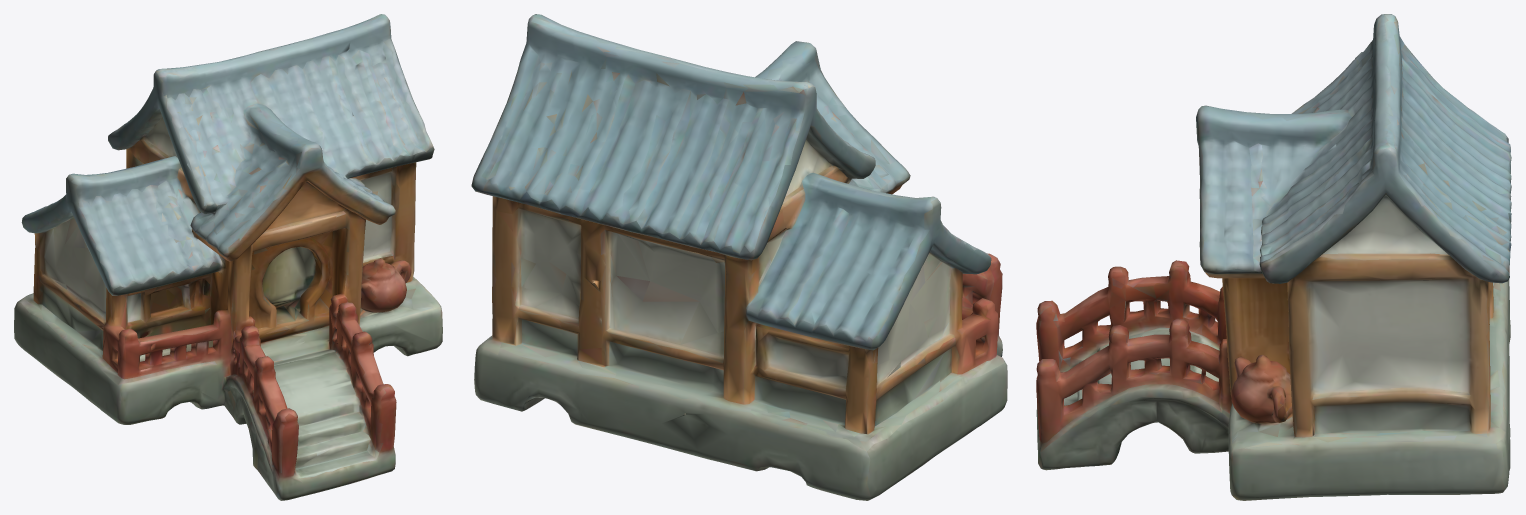
File: sc-home-bridge.glb
The picture shows the model from 3 angles, left to right: view 1: azimuth 30°, elevation 25°; view 2: azimuth 150°, elevation 25°; view 3: azimuth 270°, elevation 25°; orthographic projection. The views are drawn at different scales.
Visible parts, largest first — view 1: geometry_0; view 2: geometry_0; view 3: geometry_0.
Boxes of the visible parts, x1,y1,x2,y2 form: geometry_0: (14, 14, 442, 500); geometry_0: (471, 14, 1007, 500); geometry_0: (1036, 14, 1511, 500).
Bounding box in the file's own units: 1 × 0.9458 × 1.
Materials: 1 (1 with a texture image).
